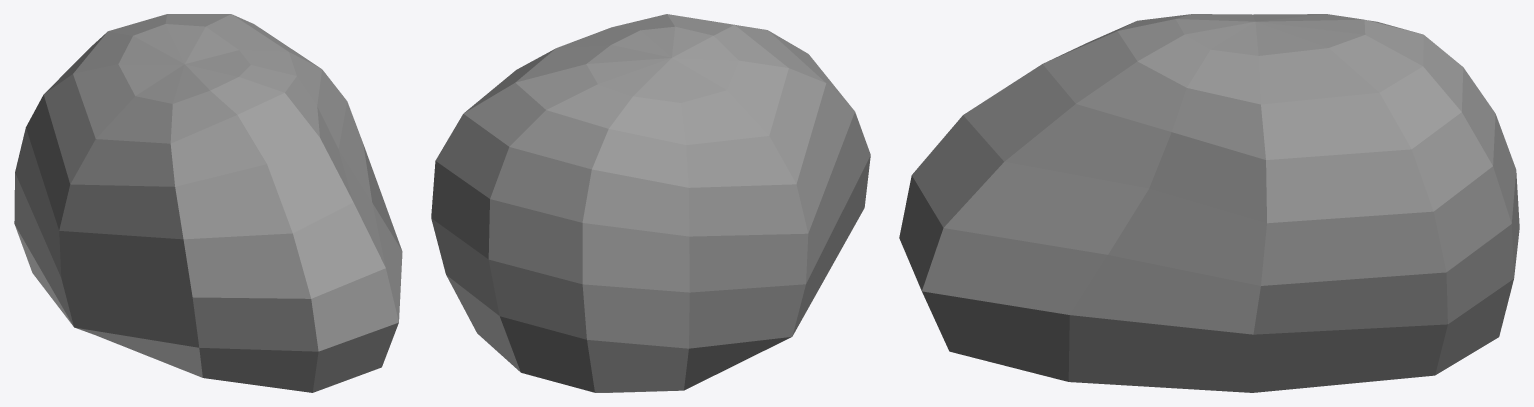
File: Stone2.fbx
3 views of the same model, side by side, from view 1: azimuth 30°, elevation 25°; view 2: azimuth 150°, elevation 25°; view 3: azimuth 270°, elevation 25° (orthographic). The views are drawn at different scales.
Visible parts, largest first — view 1: Stone2; view 2: Stone2; view 3: Stone2.
Boxes of the visible parts, x1,y1,x2,y2 form: Stone2: [14, 14, 402, 392]; Stone2: [431, 14, 870, 392]; Stone2: [899, 14, 1519, 392].
Bounding box in the file's own units: 51.18 × 41.02 × 72.24.
